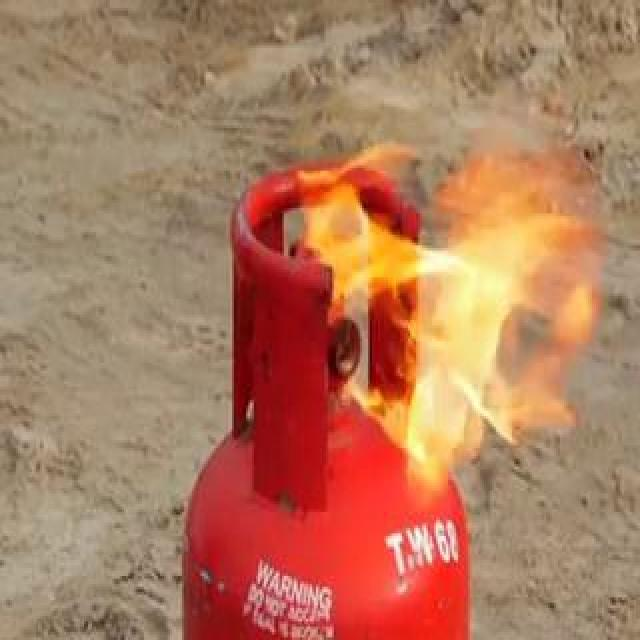Fire: (240, 73, 522, 476)
